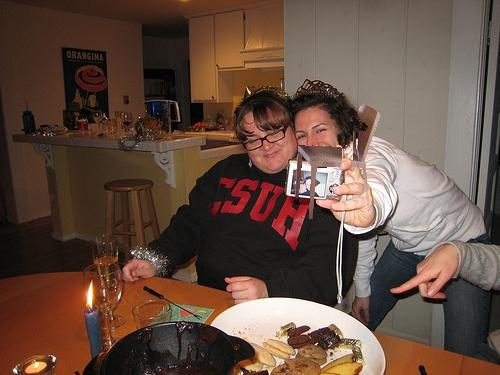tampered: (296, 105, 380, 219)
